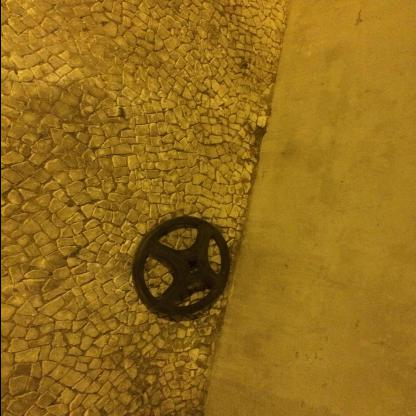diger: (132, 216, 230, 316)
